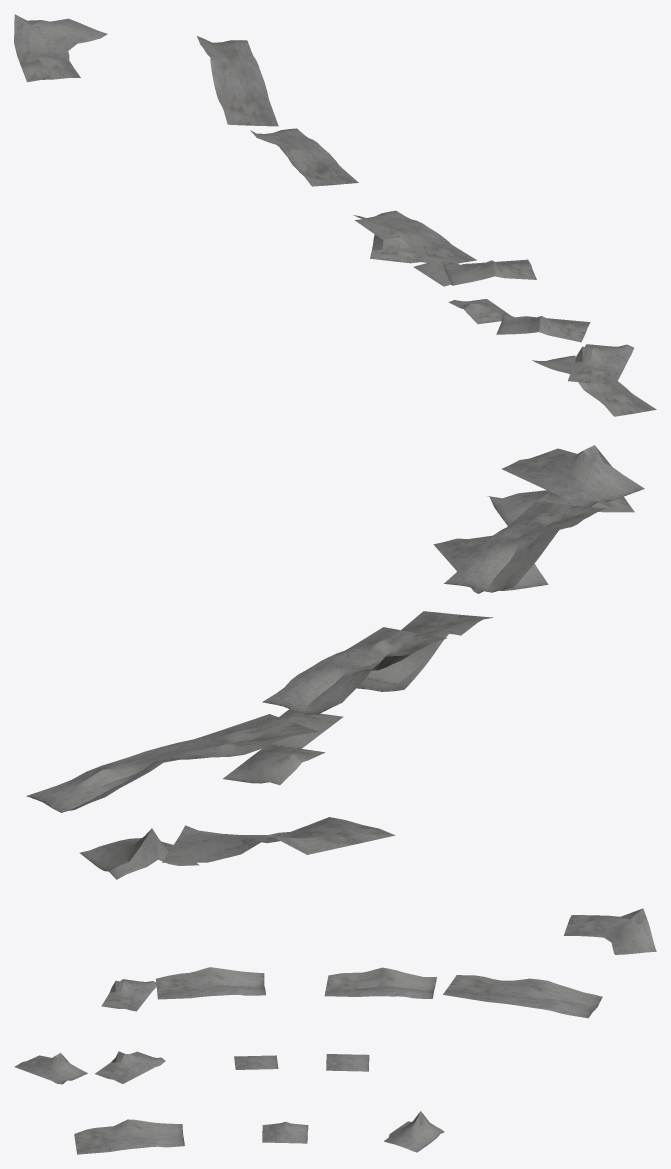
The model's file is SM_CorridorSculpture_02_Rubbles_00.fbx.
The picture shows the model from 3 angles, top to bottom: view 1: azimuth 30°, elevation 25°; view 2: azimuth 150°, elevation 25°; view 3: azimuth 270°, elevation 25°; orthographic projection. The views are drawn at different scales.
Visible parts, largest first — view 1: SM_CorridorSculpture_02_Rubbles_00; view 2: SM_CorridorSculpture_02_Rubbles_00; view 3: SM_CorridorSculpture_02_Rubbles_00.
Part boxes in pixels (box(x1,y1,x2,y2)): SM_CorridorSculpture_02_Rubbles_00: box(14, 14, 656, 416); SM_CorridorSculpture_02_Rubbles_00: box(26, 445, 644, 879); SM_CorridorSculpture_02_Rubbles_00: box(14, 908, 656, 1154).
Bounding box in the file's own units: 2549 × 1502 × 6024.
